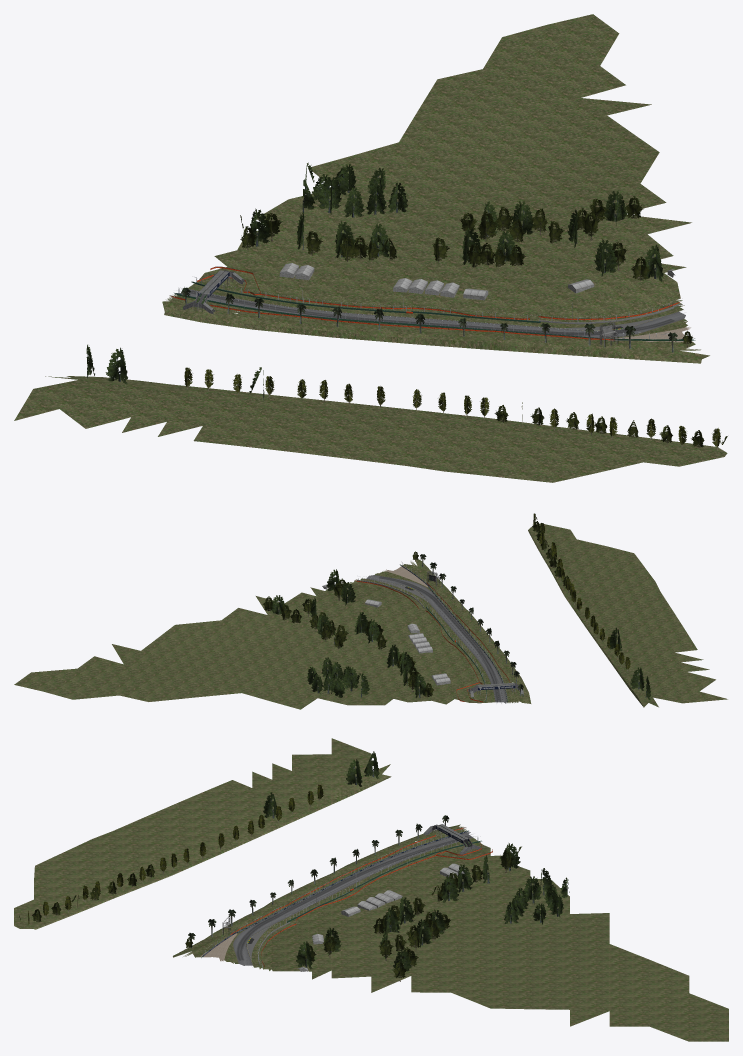
3 views of the same model, one above another, from view 1: azimuth 30°, elevation 25°; view 2: azimuth 150°, elevation 25°; view 3: azimuth 270°, elevation 25° (orthographic). The views are drawn at different scales.
Visible parts, largest first — view 1: tile_t09; view 2: tile_t09; view 3: tile_t09.
Boxes of the visible parts, <box> form: tile_t09: <box>14,14,727,482</box>; tile_t09: <box>14,513,727,709</box>; tile_t09: <box>14,738,728,1041</box>.
Bounding box in the file's own units: 592 × 30.67 × 576.
Materials: 28 (28 with a texture image).
